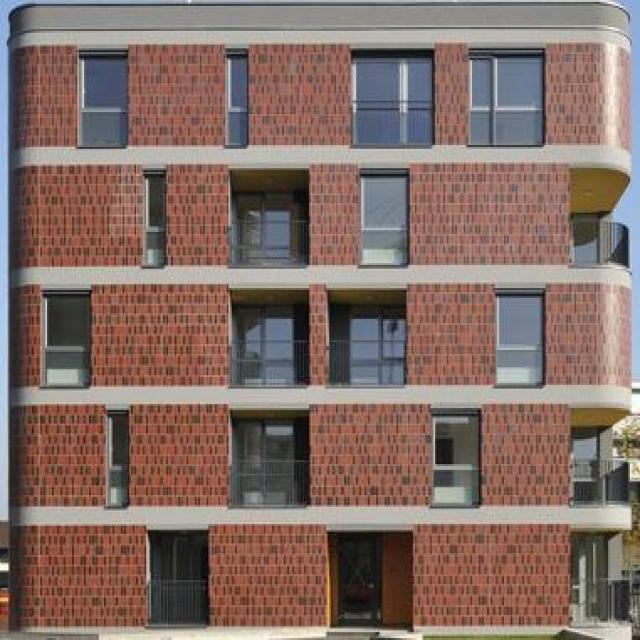Railing: (228, 456, 310, 502), (327, 340, 405, 388), (232, 222, 309, 266), (232, 341, 308, 384), (569, 223, 629, 266), (150, 583, 207, 627), (572, 461, 629, 504)
door: (338, 538, 382, 629)
wall: (8, 3, 630, 631)
windows: (470, 52, 546, 146), (352, 56, 432, 144), (359, 174, 409, 266), (429, 416, 480, 506), (77, 57, 126, 148), (495, 297, 546, 383), (44, 298, 89, 382), (239, 306, 307, 341), (151, 536, 205, 580), (236, 424, 308, 456), (343, 305, 405, 341), (238, 190, 308, 219), (225, 58, 248, 146), (143, 176, 164, 264), (106, 415, 127, 501)
